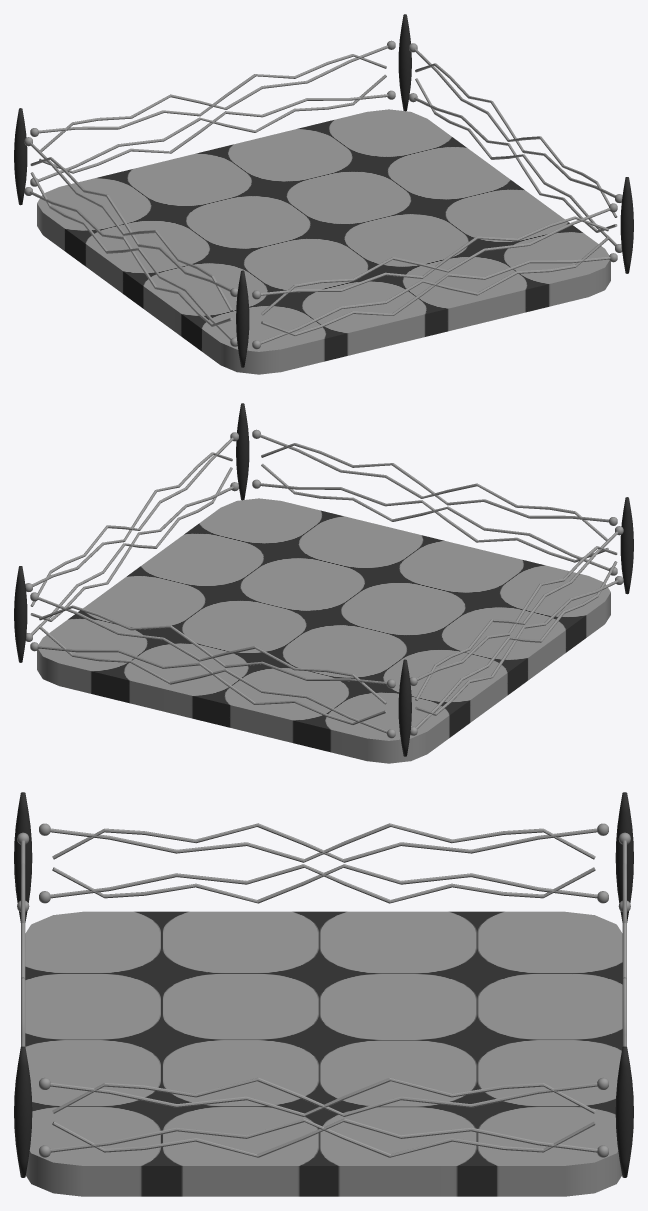
The model's file is Stage_Proto.fbx.
3 views of the same model, one above another, from view 1: azimuth 30°, elevation 25°; view 2: azimuth 150°, elevation 25°; view 3: azimuth 270°, elevation 25° (orthographic). The views are drawn at different scales.
Visible parts, largest first — view 1: pCube14, pCylinder6 (×4), pCylinder7 (×4), pCylinder5, pCylinder2, pCylinder4, pCylinder3; view 2: pCube14, pCylinder6 (×4), pCylinder7 (×4), pCylinder4, pCylinder3, pCylinder5, pCylinder2; view 3: pCube14, pCylinder6 (×4), pCylinder7 (×2), pCylinder2, pCylinder3, pCylinder4, pCylinder5.
Boxes of the visible parts, x1=… form: pCube14: x1=37, y1=109, x2=610, y2=374; pCylinder6 (×4): x1=24, y1=40, x2=622, y2=315; pCylinder7 (×4): x1=24, y1=74, x2=622, y2=349; pCylinder5: x1=236, y1=270, x2=249, y2=367; pCylinder2: x1=620, y1=177, x2=633, y2=273; pCylinder4: x1=14, y1=108, x2=27, y2=205; pCylinder3: x1=398, y1=14, x2=411, y2=111; pCube14: x1=37, y1=498, x2=610, y2=763; pCylinder6 (×4): x1=25, y1=429, x2=623, y2=704; pCylinder7 (×4): x1=25, y1=463, x2=623, y2=738; pCylinder4: x1=398, y1=659, x2=411, y2=756; pCylinder3: x1=14, y1=566, x2=27, y2=662; pCylinder5: x1=620, y1=497, x2=633, y2=594; pCylinder2: x1=236, y1=403, x2=249, y2=500; pCube14: x1=25, y1=911, x2=622, y2=1196; pCylinder6 (×4): x1=17, y1=823, x2=630, y2=1116; pCylinder7 (×2): x1=39, y1=864, x2=608, y2=1157; pCylinder2: x1=14, y1=1046, x2=32, y2=1177; pCylinder3: x1=615, y1=1046, x2=633, y2=1177; pCylinder4: x1=615, y1=792, x2=633, y2=922; pCylinder5: x1=14, y1=792, x2=32, y2=922.
Bounding box in the file's own units: 103 × 27.37 × 103.
